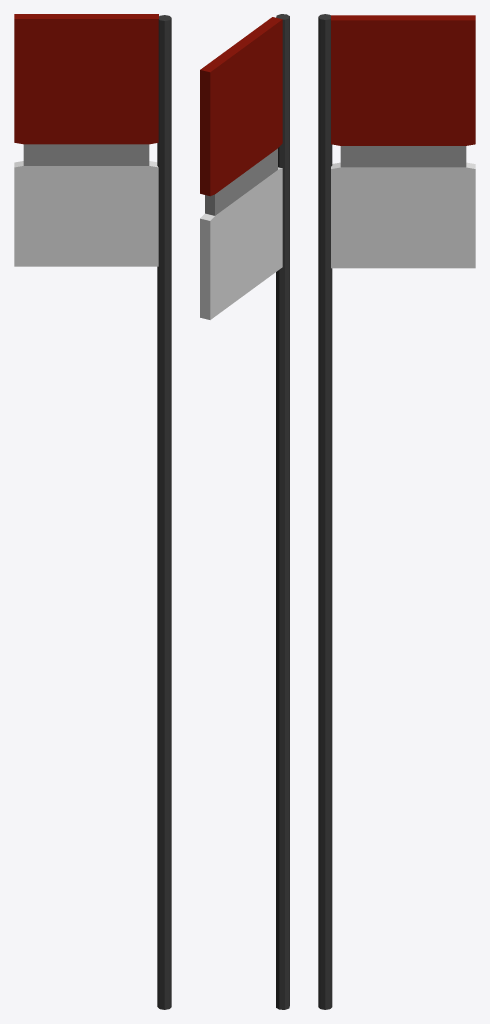
File: Buss_Skylt.fbx
The picture shows the model from 3 angles, left to right: view 1: azimuth 90°, elevation 25°; view 2: azimuth 150°, elevation 25°; view 3: azimuth 270°, elevation 25°; orthographic projection.
Visible parts, largest first — view 1: pCylinder2; view 2: pCylinder2; view 3: pCylinder2.
Part boxes in pixels (<box>): pCylinder2: <box>14,14,171,1009</box>; pCylinder2: <box>200,14,289,1009</box>; pCylinder2: <box>318,14,475,1009</box>.
Size of the model in its own units: 0.0882 by 6.05 by 0.8731.
